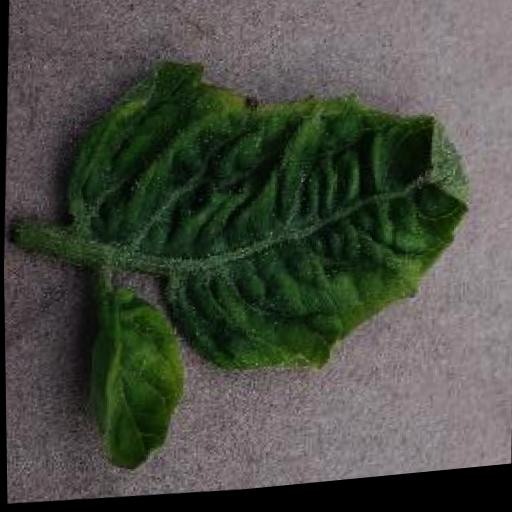Yellow Leaf Curl Virus: (60, 40, 479, 399), (91, 297, 189, 478)
